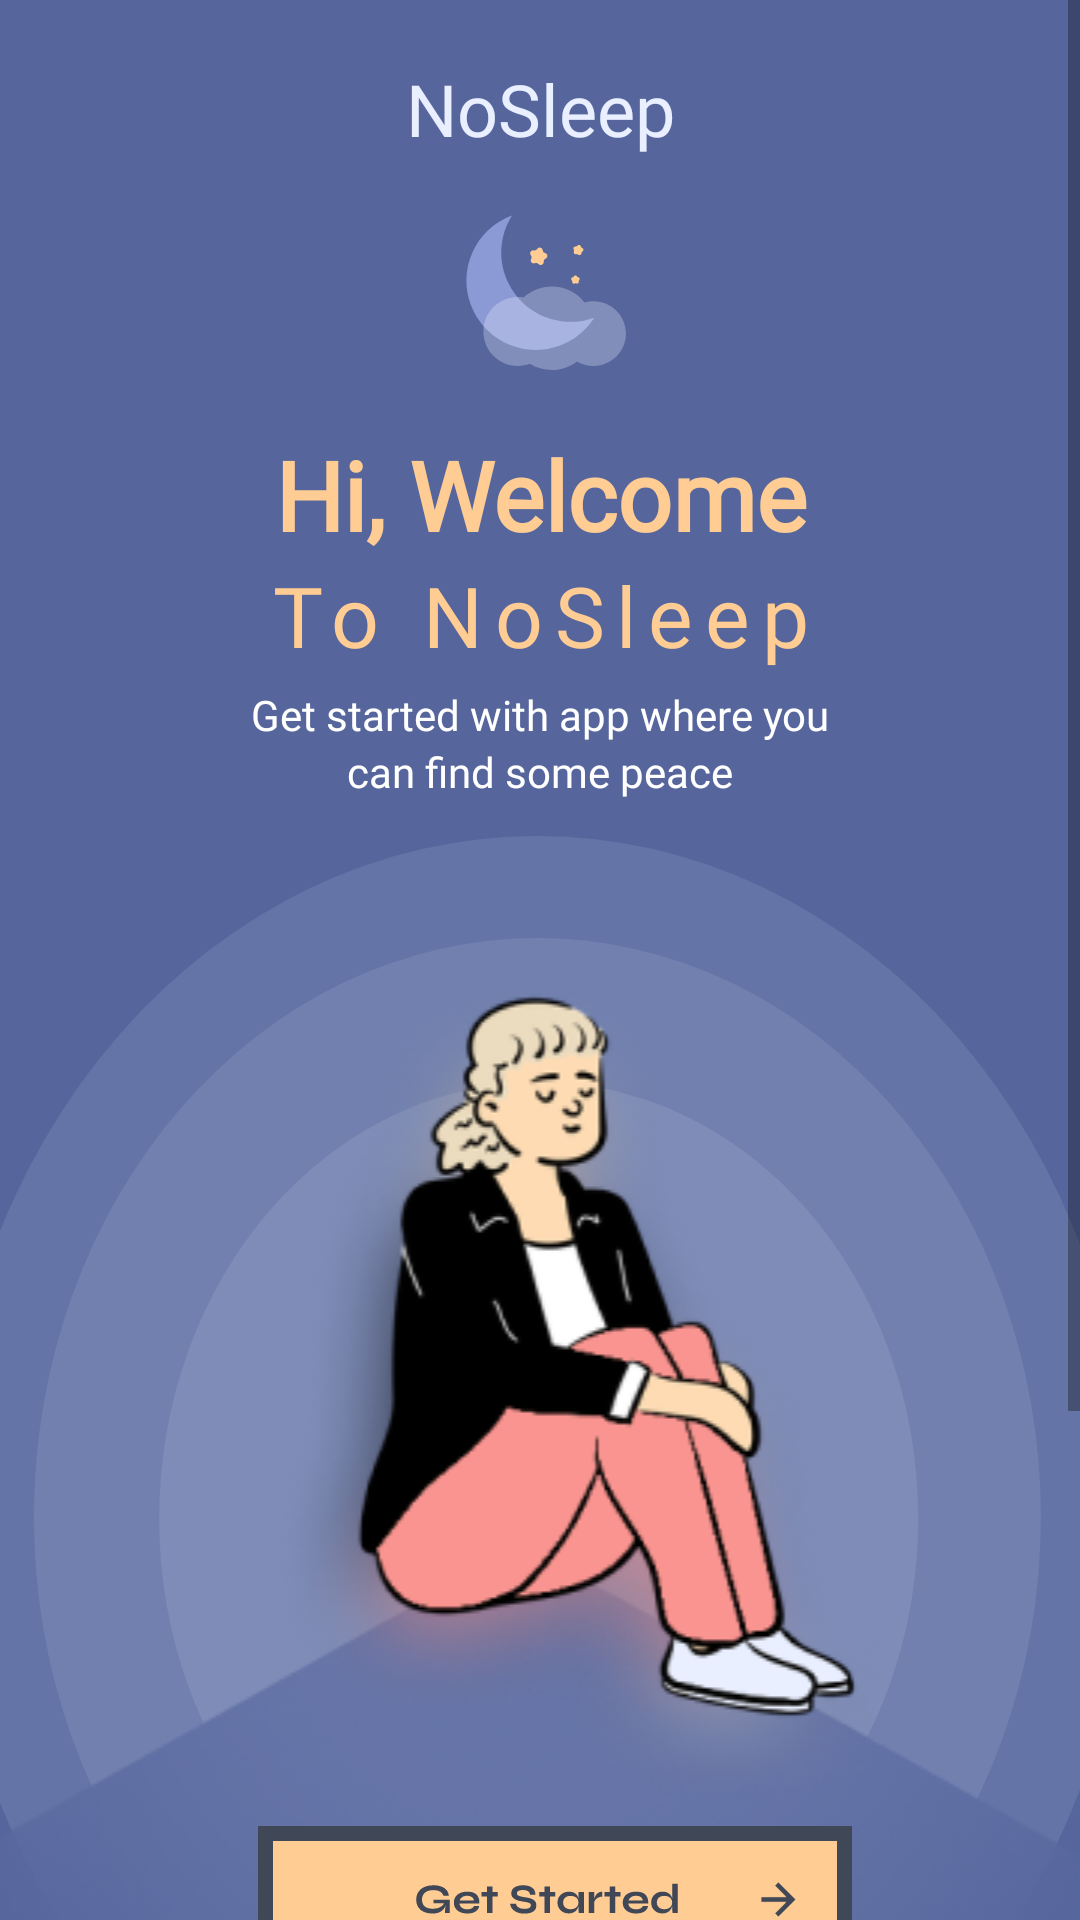

Point at icon controls on the screen. Image size 1080w x 1920h, points as [x,y].
moon: [546,293]
